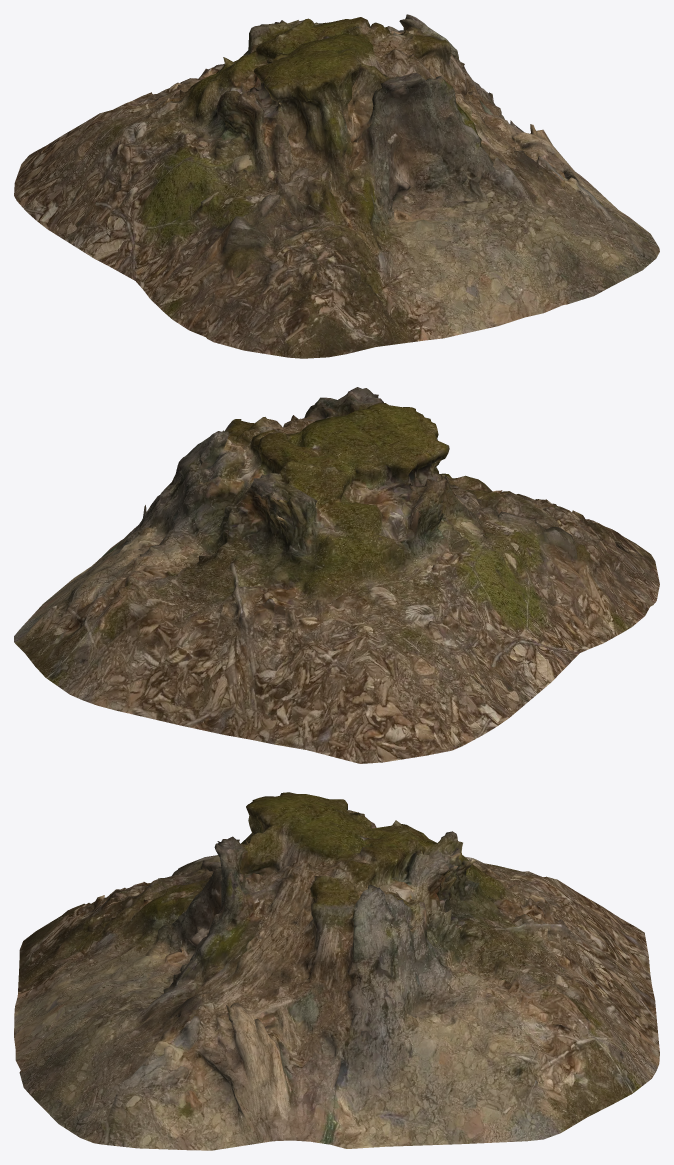
Rendered from tree_stump_01.glb.
The picture shows the model from 3 angles, top to bottom: view 1: azimuth 30°, elevation 25°; view 2: azimuth 150°, elevation 25°; view 3: azimuth 270°, elevation 25°; orthographic projection. The views are drawn at different scales.
Parts seen in each view (by area): view 1: tree_stump_01; view 2: tree_stump_01; view 3: tree_stump_01.
Boxes of the visible parts, left/top/right/bottom form: tree_stump_01: left=14, top=14, right=659, bottom=358; tree_stump_01: left=14, top=387, right=659, bottom=763; tree_stump_01: left=14, top=792, right=659, bottom=1150.
Size of the model in its own units: 1.43 by 0.5725 by 1.59.
1 material, 1 textured.
